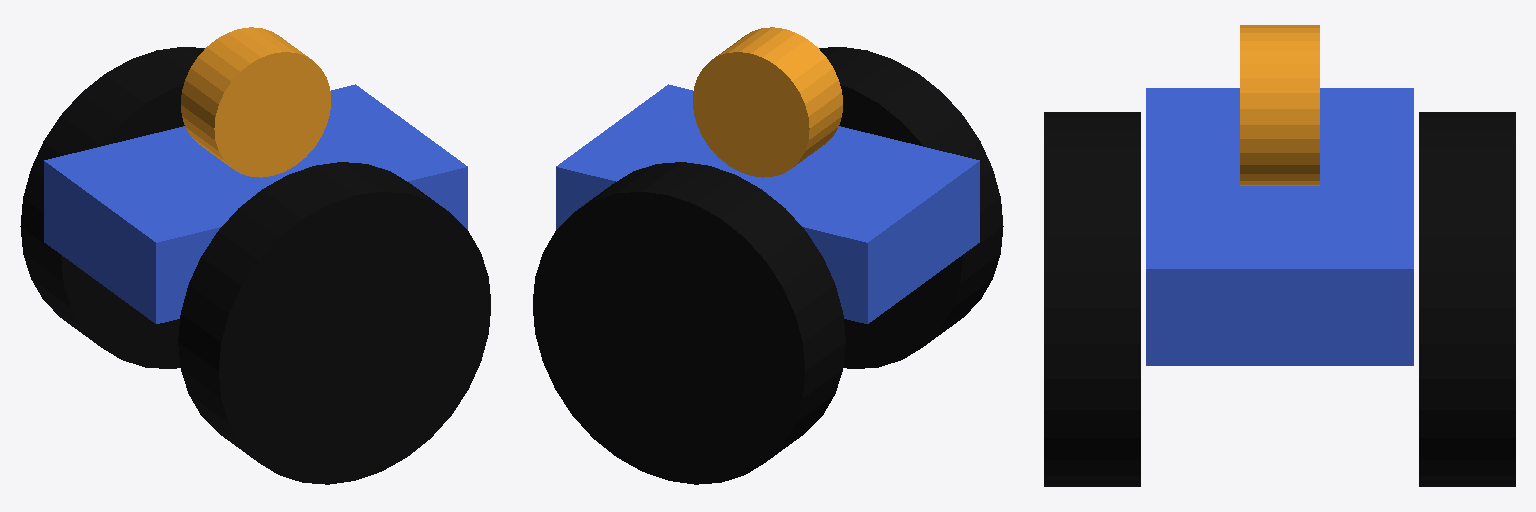
robot.urdf — two_wheel_balancer:
<?xml version="1.0"?>
<robot name="two_wheel_balancer">
  <link name="base_link">
    <inertial>
      <origin xyz="0 0 0.11" rpy="0 0 0"/>
      <mass value="3.6"/>
      <inertia ixx="0.0045" ixy="0.0" ixz="0.0" iyy="0.0080" iyz="0.0" izz="0.0098"/>
    </inertial>

    <visual>
      <origin xyz="0 0 0.10" rpy="0 0 0"/>
      <geometry>
        <box size="0.16 0.10 0.04"/>
      </geometry>
      <material name="base_blue">
        <color rgba="0.30 0.45 0.90 1.0"/>
      </material>
    </visual>
    <visual>
      <origin xyz="0 0 0.15" rpy="1.57079632679 0 0"/>
      <geometry>
        <cylinder radius="0.03" length="0.03"/>
      </geometry>
      <material name="gyro_orange">
        <color rgba="0.95 0.65 0.20 1.0"/>
      </material>
    </visual>

    <collision>
      <origin xyz="0 0 0.10" rpy="0 0 0"/>
      <geometry>
        <box size="0.16 0.10 0.04"/>
      </geometry>
    </collision>
    <collision>
      <origin xyz="0 0 0.15" rpy="1.57079632679 0 0"/>
      <geometry>
        <cylinder radius="0.03" length="0.03"/>
      </geometry>
    </collision>
  </link>

  <link name="wheel_L">
    <inertial>
      <origin xyz="0 0 0" rpy="0 0 0"/>
      <mass value="0.7"/>
      <inertia ixx="0.00093" ixy="0.0" ixz="0.0" iyy="0.00172" iyz="0.0" izz="0.00093"/>
    </inertial>
    <visual>
      <origin xyz="0 0 0" rpy="1.57079632679 0 0"/>
      <geometry>
        <cylinder radius="0.07" length="0.036"/>
      </geometry>
      <material name="wheel_black">
        <color rgba="0.1 0.1 0.1 1.0"/>
      </material>
    </visual>
    <collision>
      <origin xyz="0 0 0" rpy="1.57079632679 0 0"/>
      <geometry>
        <cylinder radius="0.07" length="0.036"/>
      </geometry>
    </collision>
  </link>

  <link name="wheel_R">
    <inertial>
      <origin xyz="0 0 0" rpy="0 0 0"/>
      <mass value="0.7"/>
      <inertia ixx="0.00093" ixy="0.0" ixz="0.0" iyy="0.00172" iyz="0.0" izz="0.00093"/>
    </inertial>
    <visual>
      <origin xyz="0 0 0" rpy="1.57079632679 0 0"/>
      <geometry>
        <cylinder radius="0.07" length="0.036"/>
      </geometry>
      <material name="wheel_black"/>
    </visual>
    <collision>
      <origin xyz="0 0 0" rpy="1.57079632679 0 0"/>
      <geometry>
        <cylinder radius="0.07" length="0.036"/>
      </geometry>
    </collision>
  </link>

  <joint name="wheel_L_joint" type="continuous">
    <origin xyz="0 -0.07 0.07" rpy="0 0 0"/>
    <parent link="base_link"/>
    <child link="wheel_L"/>
    <axis xyz="0 -1 0"/>
    <dynamics damping="0.08" friction="0.02"/>
    <limit effort="30.0" velocity="60.0"/>
  </joint>

  <joint name="wheel_R_joint" type="continuous">
    <origin xyz="0 0.07 0.07" rpy="0 0 0"/>
    <parent link="base_link"/>
    <child link="wheel_R"/>
    <axis xyz="0 1 0"/>
    <dynamics damping="0.08" friction="0.02"/>
    <limit effort="30.0" velocity="60.0"/>
  </joint>
</robot>

--- Facts derived from the render (not from the file) ---
3 views of the same robot in one strip: view 1: azimuth 30°, elevation 25°; view 2: azimuth 150°, elevation 25°; view 3: azimuth 270°, elevation 25° (orthographic).
Robot: two_wheel_balancer — 3 links, 2 joints (2 continuous); root link base_link; default pose: all joints at 0.
Links seen in each view (by area): view 1: wheel_L, base_link, wheel_R; view 2: wheel_R, base_link, wheel_L; view 3: base_link, wheel_L, wheel_R.
Boxes of the visible links, x1=… form: wheel_L: x1=178, y1=162, x2=490, y2=484; base_link: x1=44, y1=27, x2=467, y2=323; wheel_R: x1=20, y1=47, x2=204, y2=368; wheel_R: x1=533, y1=162, x2=845, y2=484; base_link: x1=556, y1=27, x2=979, y2=323; wheel_L: x1=819, y1=47, x2=1003, y2=368; base_link: x1=1146, y1=25, x2=1413, y2=365; wheel_L: x1=1044, y1=112, x2=1140, y2=486; wheel_R: x1=1419, y1=112, x2=1515, y2=486.
Bounding box of the posed robot: 0.16 × 0.176 × 0.18 m (x, y, z).
Geometry: primitives only (box / cylinder / sphere), no mesh files.
